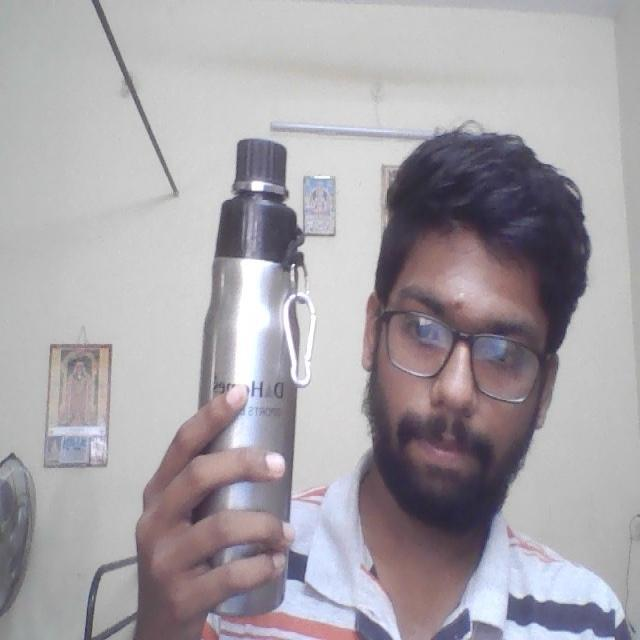Drinking: (179, 132, 329, 619)
